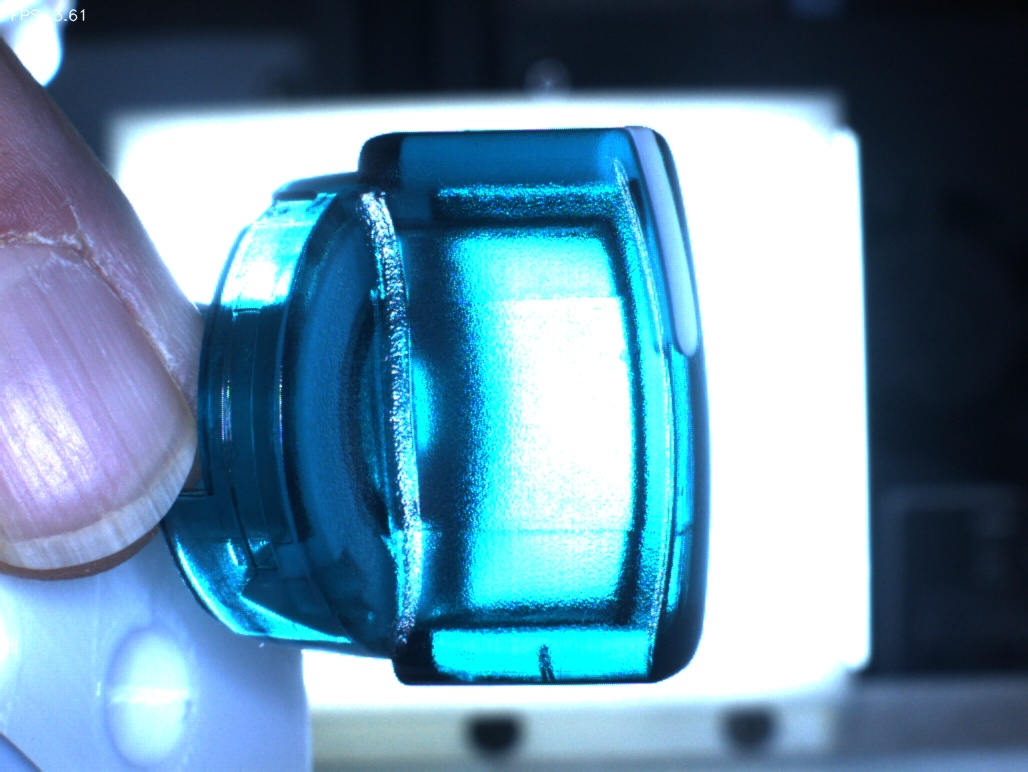Bulle: (490, 626, 610, 724)
